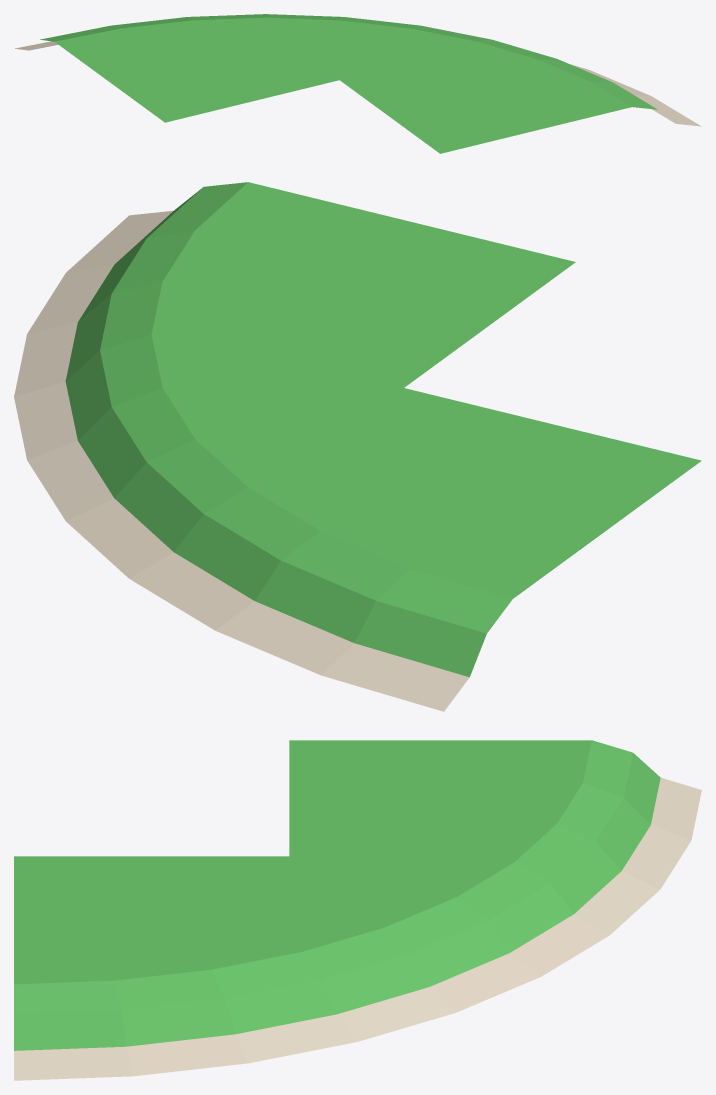
File: Hilly_Terrain_Path_Corner_Inner_3x3.glb
3 renders of one model, top to bottom at view 1: azimuth 30°, elevation 25°; view 2: azimuth 150°, elevation 25°; view 3: azimuth 270°, elevation 25°, orthographic. The views are drawn at different scales.
Visible parts, largest first — view 1: Hilly_Terrain_Path_Corner_Inner_3x3; view 2: Hilly_Terrain_Path_Corner_Inner_3x3; view 3: Hilly_Terrain_Path_Corner_Inner_3x3.
Boxes of the visible parts, left/top/right/bottom form: Hilly_Terrain_Path_Corner_Inner_3x3: left=15, top=14, right=701, bottom=153; Hilly_Terrain_Path_Corner_Inner_3x3: left=14, top=182, right=701, bottom=711; Hilly_Terrain_Path_Corner_Inner_3x3: left=14, top=740, right=701, bottom=1080.
Bounding box in the file's own units: 2.5 × 0.2 × 2.5.
